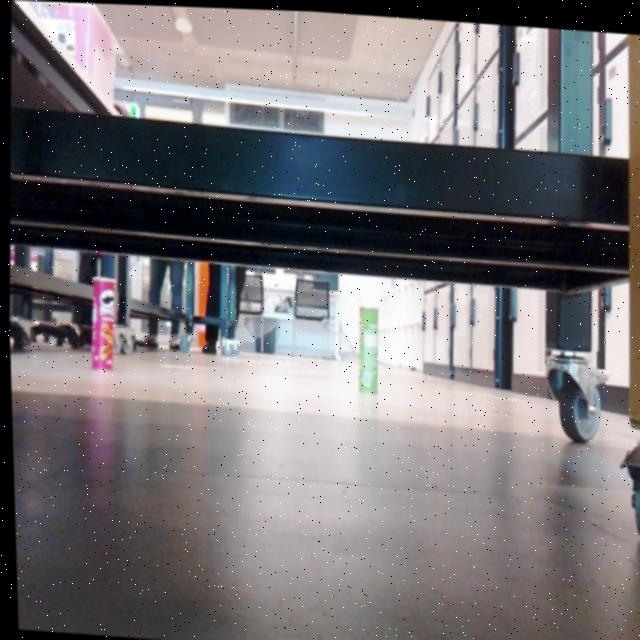greenpringles: (328, 289, 397, 415)
redpringles: (75, 257, 132, 379)
